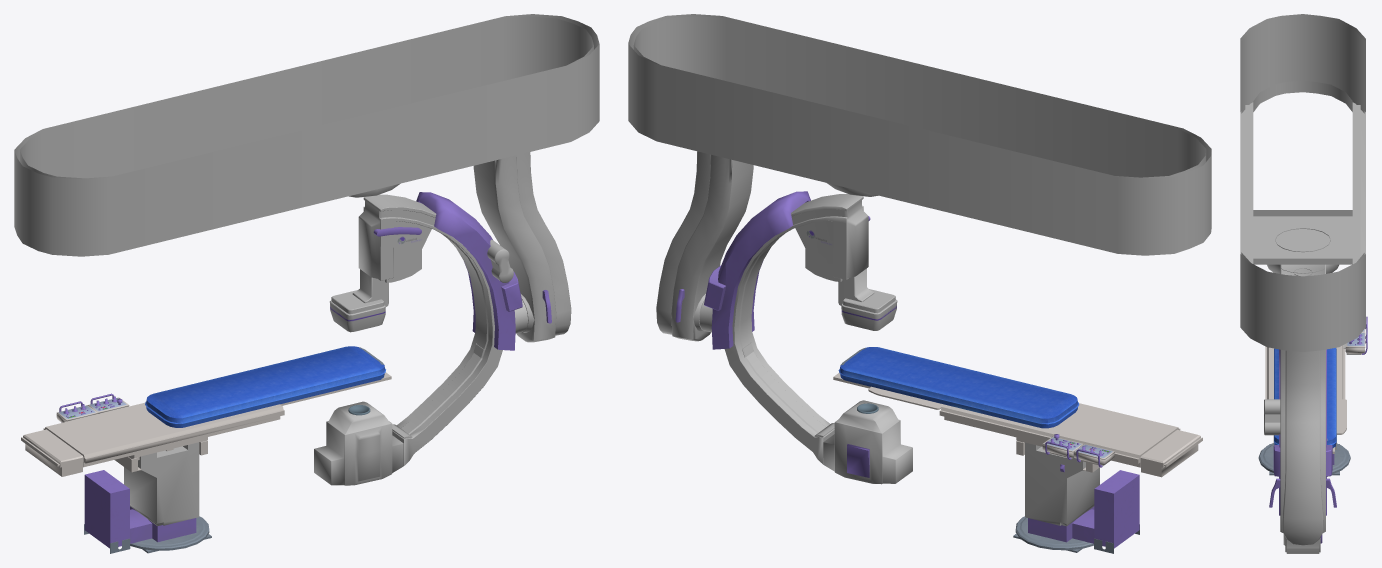
The model's file is Xray-scan_01.FBX.
The picture shows the model from 3 angles, left to right: view 1: azimuth 30°, elevation 25°; view 2: azimuth 150°, elevation 25°; view 3: azimuth 270°, elevation 25°; orthographic projection. The views are drawn at different scales.
Parts seen in each view (by area): view 1: Fixation_plafond_node, Arceau_part3_node, Arceau_part1_node, Rectangle001, lit_plateau_node, Arceau_part2_node, lit_pied_node, lit_socle_element_node, Arceau_detecteur_node, lit_socle_pivotant_node, lit_commande_node; view 2: Fixation_plafond_node, Arceau_part3_node, Arceau_part1_node, Rectangle001, lit_plateau_node, Arceau_part2_node, lit_pied_node, lit_socle_element_node, Arceau_detecteur_node, lit_commande_node, lit_socle_pivotant_node; view 3: Fixation_plafond_node, Arceau_part1_node, Arceau_plateforme_mobile_node, Arceau_part2_node, Rectangle001, lit_plateau_node, lit_commande_node, Arceau_part3_node, lit_socle_pivotant_node, lit_socle_fixe_node, lit_support_bras_node.
Part boxes in pixels (box(x1,y1,x2,y2)): Fixation_plafond_node: box(14, 14, 599, 256); Arceau_part3_node: box(314, 194, 502, 485); Arceau_part1_node: box(349, 152, 571, 342); Rectangle001: box(145, 346, 385, 427); lit_plateau_node: box(21, 372, 391, 476); Arceau_part2_node: box(416, 192, 527, 350); lit_pied_node: box(124, 442, 199, 525); lit_socle_element_node: box(84, 470, 152, 553); Arceau_detecteur_node: box(329, 269, 388, 332); lit_socle_pivotant_node: box(130, 506, 205, 545); lit_commande_node: box(56, 393, 129, 422); Fixation_plafond_node: box(628, 14, 1211, 255); Arceau_part3_node: box(724, 194, 912, 484); Arceau_part1_node: box(656, 151, 878, 341); Rectangle001: box(838, 347, 1079, 428); lit_plateau_node: box(833, 373, 1202, 477); Arceau_part2_node: box(699, 191, 810, 349); lit_pied_node: box(1025, 442, 1099, 526); lit_socle_element_node: box(1072, 470, 1139, 553); Arceau_detecteur_node: box(838, 268, 897, 330); lit_commande_node: box(1042, 434, 1114, 467); lit_socle_pivotant_node: box(1020, 506, 1094, 545); Fixation_plafond_node: box(1240, 14, 1365, 351); Arceau_part1_node: box(1267, 228, 1338, 545); Arceau_plateforme_mobile_node: box(1253, 210, 1352, 264); Arceau_part2_node: box(1264, 349, 1332, 515); Rectangle001: box(1274, 348, 1336, 447); lit_plateau_node: box(1265, 345, 1345, 453); lit_commande_node: box(1343, 316, 1367, 354); Arceau_part3_node: box(1283, 534, 1322, 553); lit_socle_pivotant_node: box(1263, 444, 1346, 468); lit_socle_fixe_node: box(1258, 443, 1350, 475); lit_support_bras_node: box(1336, 399, 1346, 434).
Size of the model in its own units: 456 by 307 by 93.02.
2 materials, 2 textured.
